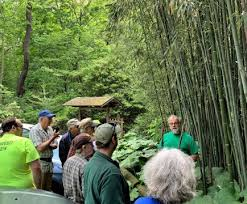bamboo: (183, 1, 247, 134), (123, 2, 183, 111), (198, 134, 246, 195)
